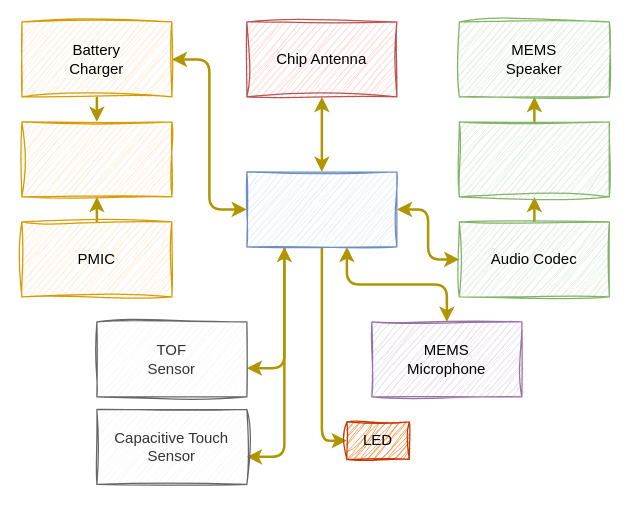
Image size: 631x506. Some labels were removed from this diagram. The shapes that lost their labels are listed below. From the top down, each one's centre as x and y in pixels, then its label:
At (96,159): "Battery".
At (533,159): "Power Amplifier".
At (321,209): "MCU".
